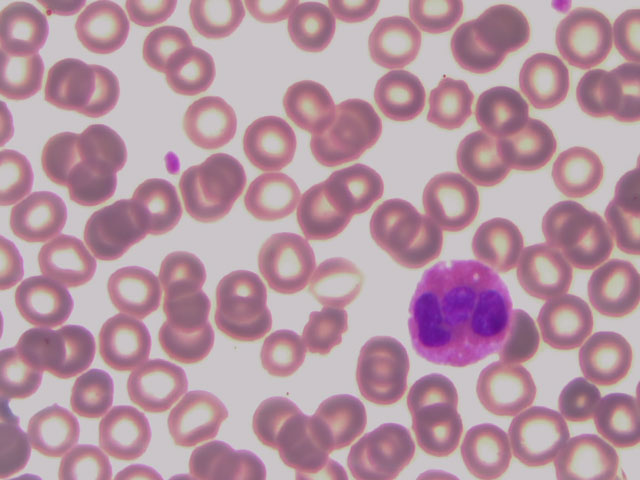Platelets: (156, 148, 190, 180), (548, 1, 579, 13)
RBC: (44, 58, 97, 111), (2, 46, 55, 99), (1, 3, 54, 56), (70, 63, 123, 116), (37, 125, 90, 178), (80, 122, 133, 175), (66, 155, 119, 208), (11, 191, 64, 244), (38, 235, 91, 288), (12, 273, 65, 326), (13, 325, 66, 378), (44, 324, 97, 377), (67, 364, 120, 417), (27, 402, 80, 455), (98, 405, 151, 458), (131, 359, 184, 412), (100, 314, 153, 367), (108, 262, 161, 315), (164, 242, 217, 295), (159, 277, 212, 330), (163, 316, 216, 369), (214, 266, 267, 319), (219, 303, 272, 356), (252, 326, 305, 379), (292, 306, 345, 359), (308, 261, 361, 314), (258, 234, 311, 287), (245, 171, 298, 224), (204, 154, 257, 207), (174, 171, 227, 224), (131, 179, 184, 232), (112, 195, 165, 248), (85, 210, 138, 263), (187, 96, 240, 149), (168, 47, 221, 100), (146, 22, 199, 75), (245, 115, 298, 168), (283, 75, 336, 128), (338, 95, 391, 148), (316, 120, 369, 173), (335, 162, 388, 215), (306, 183, 359, 236), (358, 323, 411, 376), (355, 356, 408, 409), (311, 392, 364, 445), (282, 415, 335, 468), (252, 399, 305, 452), (170, 391, 223, 444), (368, 420, 421, 473), (342, 427, 395, 480), (410, 370, 463, 423), (412, 407, 465, 460), (457, 426, 510, 479), (511, 409, 564, 462), (479, 362, 532, 415), (540, 296, 593, 349), (517, 245, 570, 298), (474, 214, 527, 267), (423, 177, 476, 230), (395, 218, 448, 271), (365, 198, 418, 251), (454, 138, 507, 191), (501, 121, 554, 174), (476, 90, 529, 143), (423, 79, 476, 132), (376, 70, 429, 123), (366, 15, 419, 68), (286, 2, 339, 55), (478, 3, 531, 56), (452, 21, 505, 74), (521, 56, 574, 109), (556, 13, 609, 66), (570, 68, 623, 121), (556, 143, 609, 196), (542, 199, 595, 252), (571, 216, 624, 269), (587, 260, 640, 313), (580, 331, 633, 384), (555, 373, 608, 426), (587, 394, 640, 447), (561, 427, 614, 480), (77, 1, 130, 53), (194, 1, 240, 39)
WBC: (409, 258, 512, 363)
